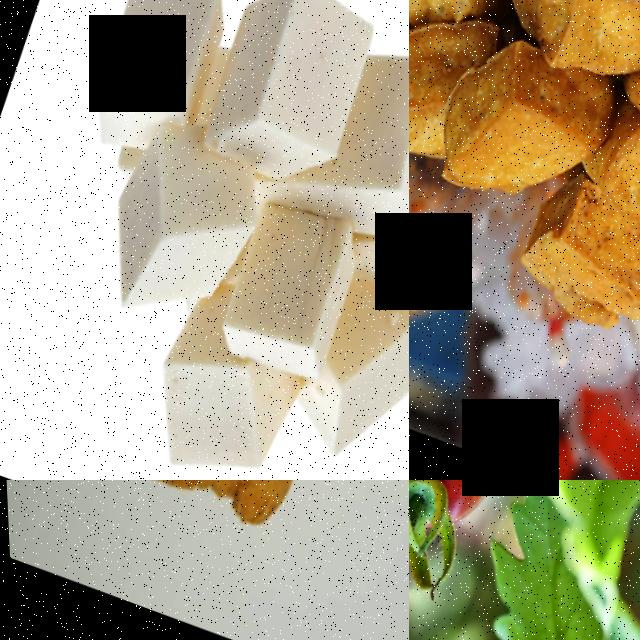tofu: (77, 113, 279, 345), (187, 0, 394, 200), (414, 23, 604, 227), (205, 190, 375, 389), (70, 0, 245, 171), (501, 161, 640, 345), (570, 103, 640, 256)
